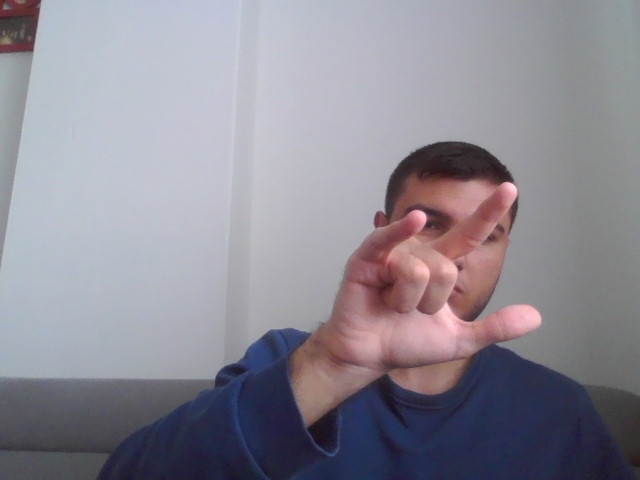ı love you: (335, 182, 545, 364)
